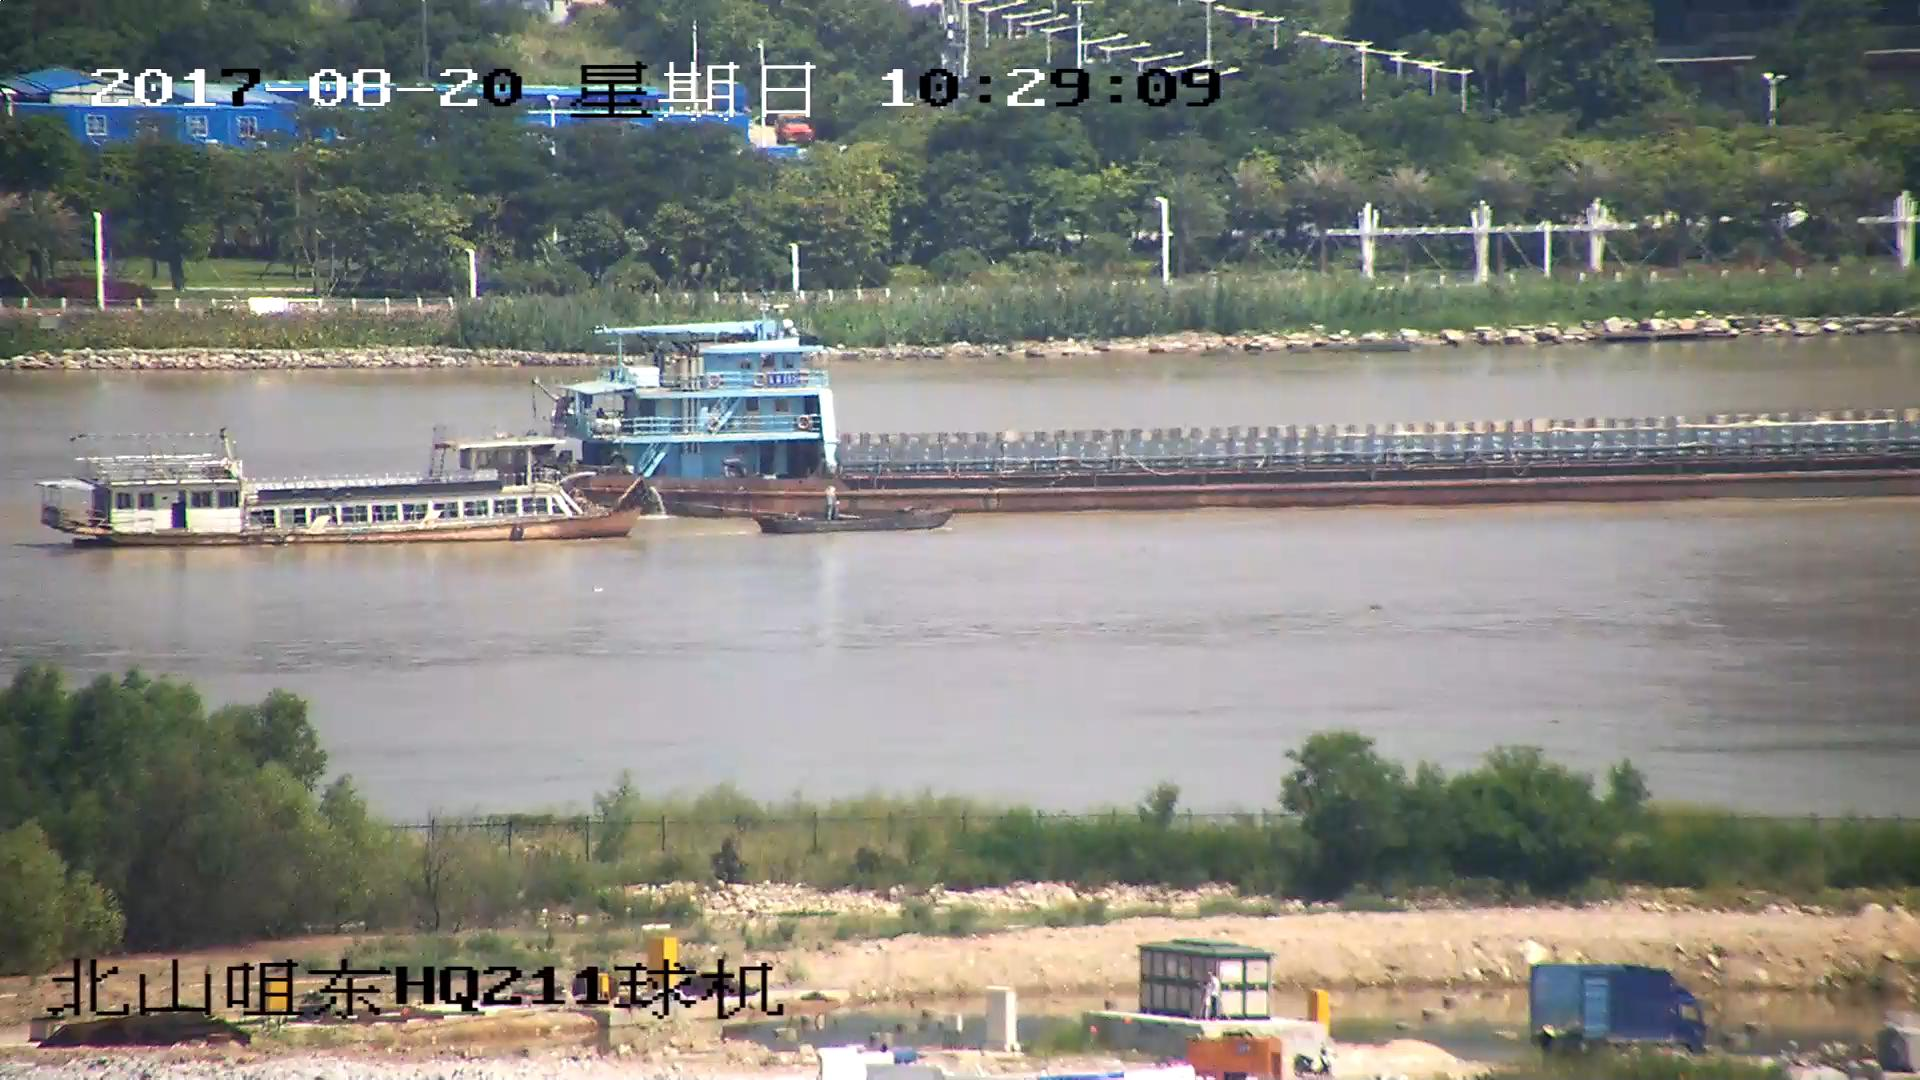fishing boat: (40, 422, 646, 546), (753, 488, 953, 533)
ore carrier: (455, 322, 1920, 511)
